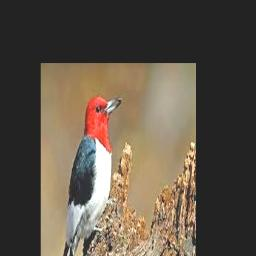Woodpecker: (61, 96, 121, 256)
